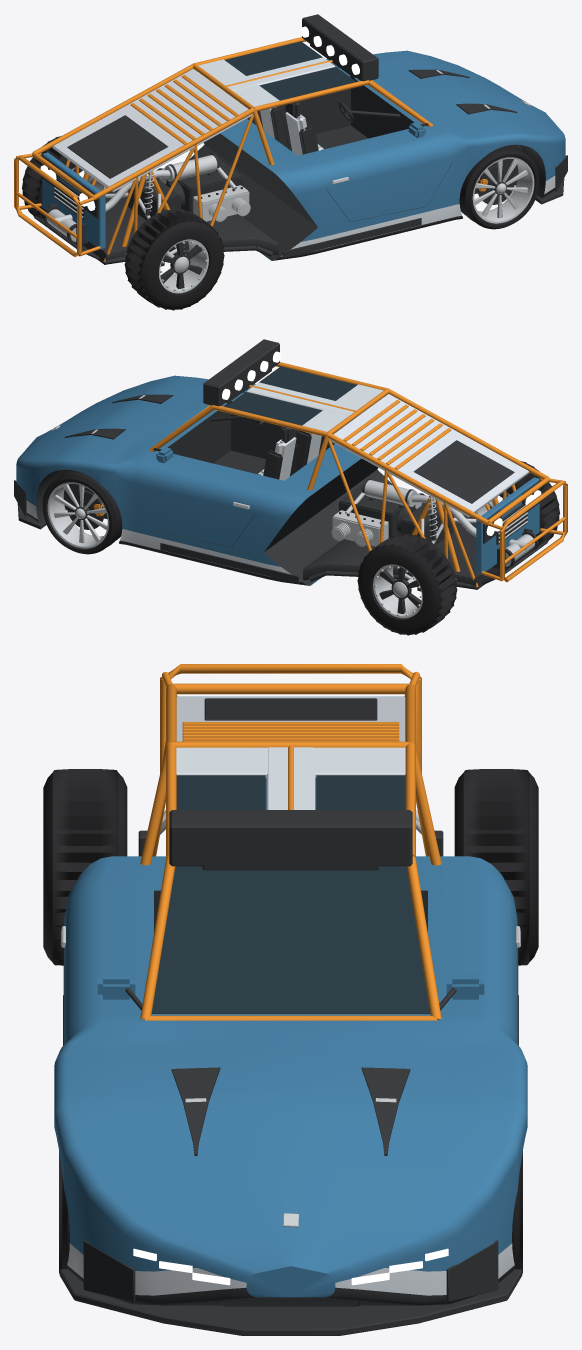
The model's file is knifeedge_blueprint.glb.
3 views of the same model, one above another, from view 1: azimuth 30°, elevation 25°; view 2: azimuth 150°, elevation 25°; view 3: azimuth 270°, elevation 25° (orthographic). The views are drawn at different scales.
Visible parts, largest first — view 1: Body_Shell.001, Detail_Iron, Body_Deck.001, Wheel_Truck_Tire_-1.001, Body_CageRear.001, Detail_Secondary, Body_Floor.001, Body_CageRoof.001, Detail_Stripe, Wheel_Coupe_Tire_-1.001, Body_CageBumper.001, Body_TailPlate.001 (+15 smaller); view 2: Body_Shell.001, Detail_Iron, Body_Deck.001, Wheel_Truck_Tire_+1.001, Body_CageRear.001, Detail_Secondary, Body_Floor.001, Body_CageRoof.001, Detail_Stripe, Wheel_Coupe_Tire_+1.001, Body_CageBumper.001, Body_TailPlate.001 (+15 smaller); view 3: Body_Shell.001, Glass_Windshield.001, Detail_Iron, Body_CageRoof.001, Wheel_Truck_Tire_-1.001, Wheel_Truck_Tire_+1.001, Body_Splitter.001, Detail_Secondary, Body_CageRear.001, Detail_Stripe, Body_CageBumper.001, Glass_Roof_-1.001 (+6 smaller).
Part boxes in pixels (x1,y1,x2,y2): Body_Shell.001: (189, 50, 565, 260); Detail_Iron: (34, 14, 567, 259); Body_Deck.001: (52, 69, 252, 192); Wheel_Truck_Tire_-1.001: (124, 208, 224, 310); Body_CageRear.001: (32, 64, 255, 262); Detail_Secondary: (198, 57, 335, 155); Body_Floor.001: (82, 168, 278, 264); Body_CageRoof.001: (193, 37, 432, 165); Detail_Stripe: (130, 75, 238, 144); Wheel_Coupe_Tire_-1.001: (459, 145, 539, 229); Body_CageBumper.001: (14, 153, 100, 257); Body_TailPlate.001: (42, 152, 105, 249); Body_Shell.001: (16, 375, 392, 585); Detail_Iron: (14, 339, 547, 584); Body_Deck.001: (329, 394, 529, 517); Wheel_Truck_Tire_+1.001: (357, 533, 457, 635); Body_CageRear.001: (326, 389, 549, 587); Detail_Secondary: (246, 382, 383, 480); Body_Floor.001: (303, 493, 499, 589); Body_CageRoof.001: (149, 362, 388, 490); Detail_Stripe: (343, 400, 451, 469); Wheel_Coupe_Tire_+1.001: (42, 470, 122, 554); Body_CageBumper.001: (481, 478, 567, 582); Body_TailPlate.001: (476, 477, 539, 574); Body_Shell.001: (54, 856, 527, 1305); Glass_Windshield.001: (151, 866, 430, 1013); Detail_Iron: (63, 698, 518, 1306); Body_CageRoof.001: (140, 741, 441, 1020); Wheel_Truck_Tire_-1.001: (43, 769, 127, 965); Wheel_Truck_Tire_+1.001: (454, 769, 538, 965); Body_Splitter.001: (59, 1269, 522, 1335); Detail_Secondary: (176, 747, 405, 809); Body_CageRear.001: (152, 683, 429, 856); Detail_Stripe: (182, 722, 399, 741); Body_CageBumper.001: (160, 664, 421, 773); Glass_Roof_-1.001: (176, 775, 265, 809).
Bounding box in the file's own units: 5.22 × 1.76 × 2.24.
